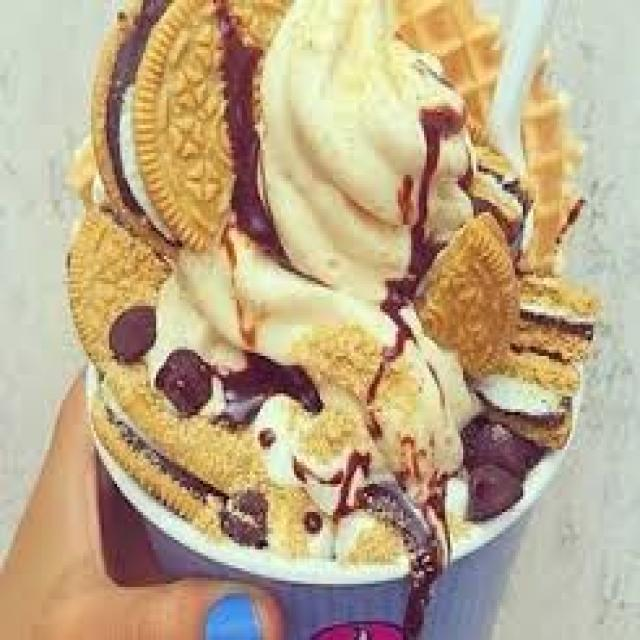Organik: (80, 202, 438, 541), (273, 0, 458, 262), (428, 0, 591, 265), (96, 0, 257, 240), (496, 279, 597, 452), (428, 221, 522, 371), (466, 389, 552, 507)
